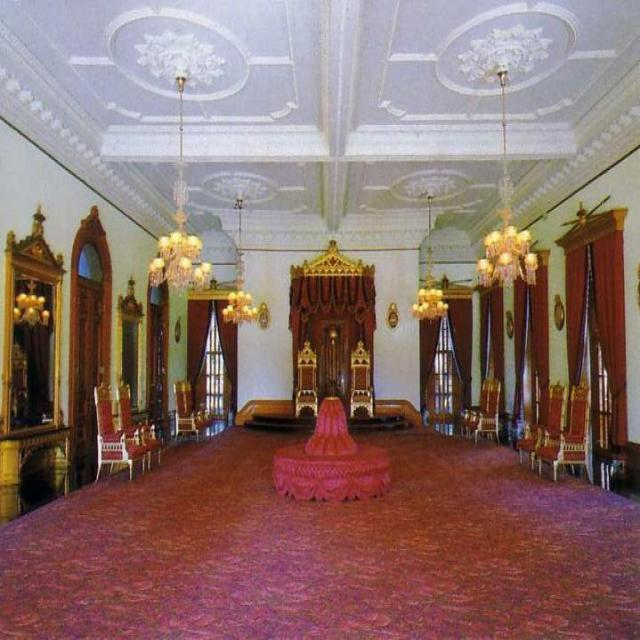cupboard: (286, 238, 376, 420)
lamps: (148, 72, 212, 296), (476, 66, 538, 292), (411, 194, 449, 324), (221, 194, 258, 326)
rugs: (1, 419, 638, 639)
